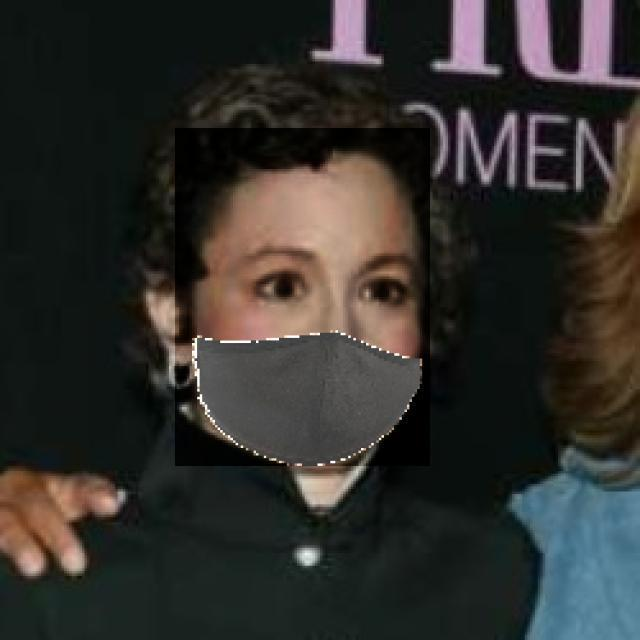cloth: (175, 129, 430, 467)
